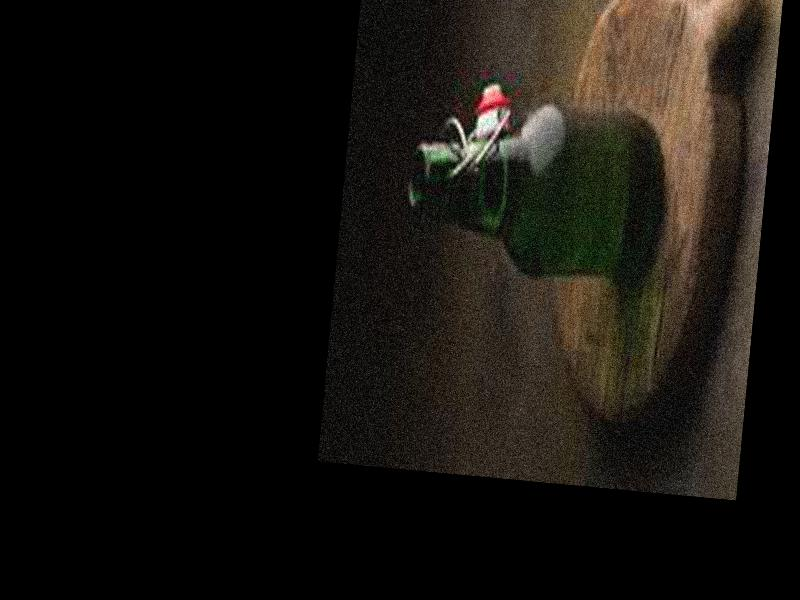Beer: (398, 93, 664, 280)
